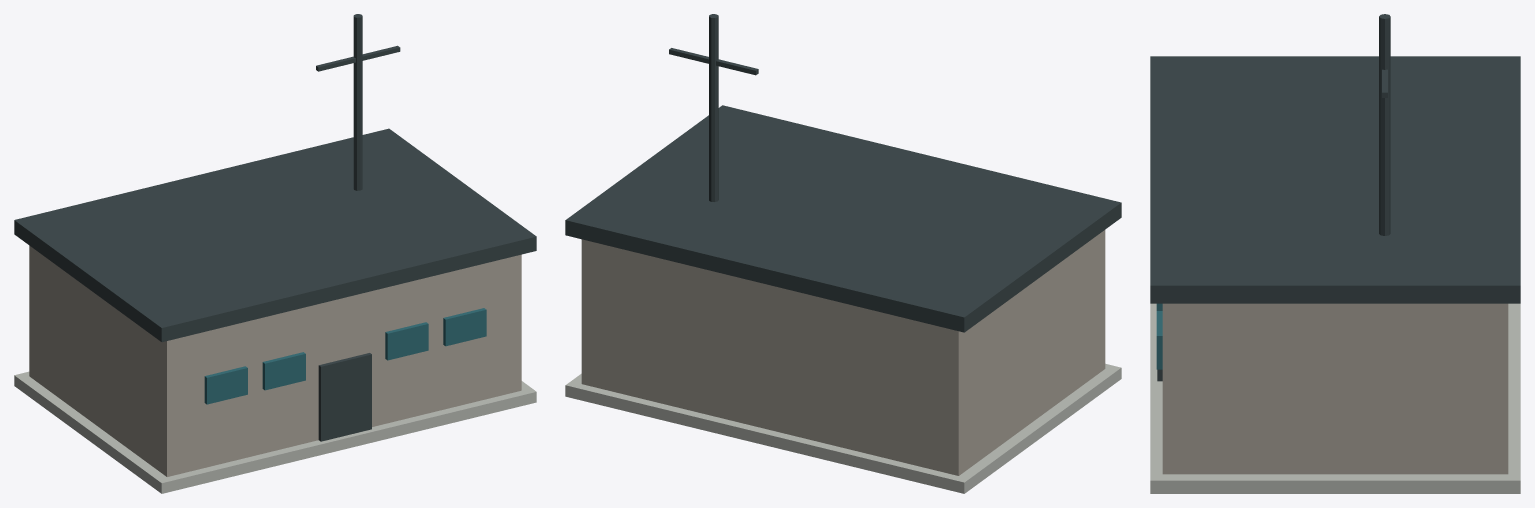
File: MIL_CommandPost.fbx
3 renders of one model, left to right at view 1: azimuth 30°, elevation 25°; view 2: azimuth 150°, elevation 25°; view 3: azimuth 270°, elevation 25°, orthographic. The views are drawn at different scales.
Parts seen in each view (by area): view 1: MIL_CommandPost_Gunmetal, Walls.002, Footing.002, MIL_CommandPost_Radar Glass; view 2: Walls.002, MIL_CommandPost_Gunmetal, Footing.002; view 3: MIL_CommandPost_Gunmetal, Walls.002, Footing.002, MIL_CommandPost_Radar Glass.
Part boxes in pixels (left/top/right/bottom): MIL_CommandPost_Gunmetal: left=14, top=14, right=536, bottom=441; Walls.002: left=29, top=245, right=521, bottom=476; Footing.002: left=14, top=371, right=536, bottom=493; MIL_CommandPost_Radar Glass: left=204, top=308, right=486, bottom=404; Walls.002: left=581, top=230, right=1105, bottom=475; MIL_CommandPost_Gunmetal: left=565, top=14, right=1121, bottom=332; Footing.002: left=565, top=363, right=1121, bottom=493; MIL_CommandPost_Gunmetal: left=1150, top=14, right=1520, bottom=381; Walls.002: left=1162, top=303, right=1508, bottom=474; Footing.002: left=1150, top=303, right=1520, bottom=493; MIL_CommandPost_Radar Glass: left=1156, top=303, right=1162, bottom=369.
Size of the model in its own units: 1100 by 950 by 750.
